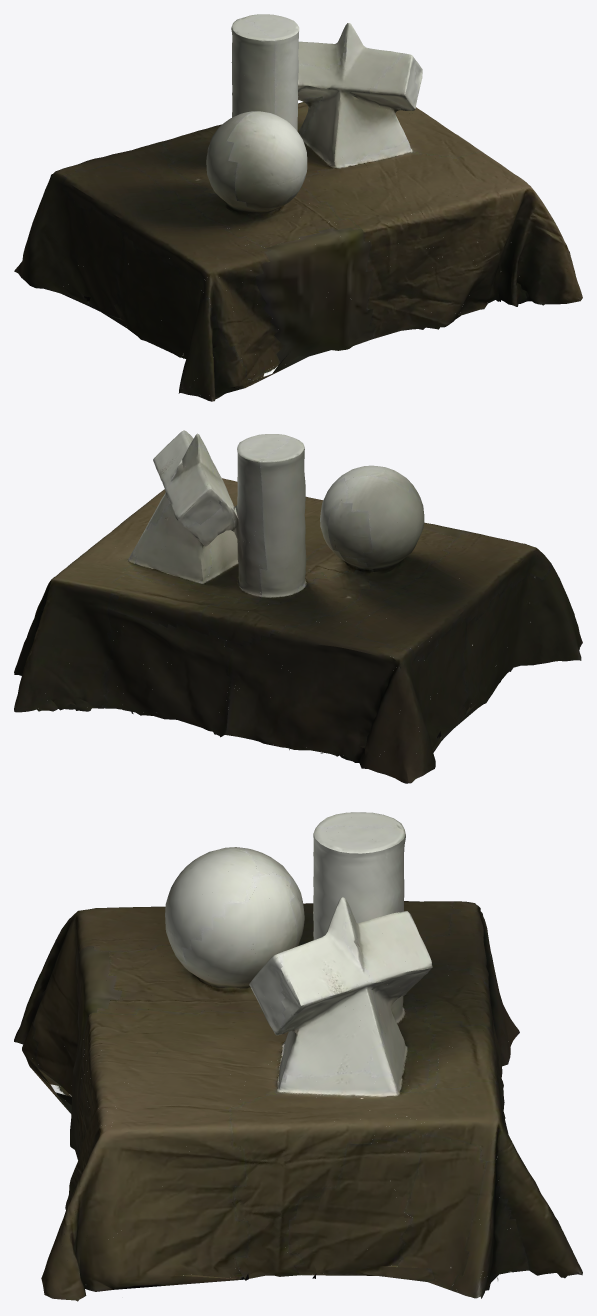
Rendered from 静物_几何体_组合几何体01_opt.glb.
3 renders of one model, top to bottom at view 1: azimuth 30°, elevation 25°; view 2: azimuth 150°, elevation 25°; view 3: azimuth 270°, elevation 25°, orthographic. The views are drawn at different scales.
Visible parts, largest first — view 1: defaultMat, defaultMat_1; view 2: defaultMat, defaultMat_1; view 3: defaultMat, defaultMat_1.
Boxes of the visible parts, bbox=[...] form: defaultMat: bbox=[14, 14, 582, 401]; defaultMat_1: bbox=[15, 20, 574, 395]; defaultMat: bbox=[14, 430, 582, 783]; defaultMat_1: bbox=[16, 430, 581, 783]; defaultMat: bbox=[14, 812, 582, 1301]; defaultMat_1: bbox=[30, 815, 566, 1297].
Size of the model in its own units: 0.5237 by 0.3 by 0.4635.
Materials: 1 (1 with a texture image).
